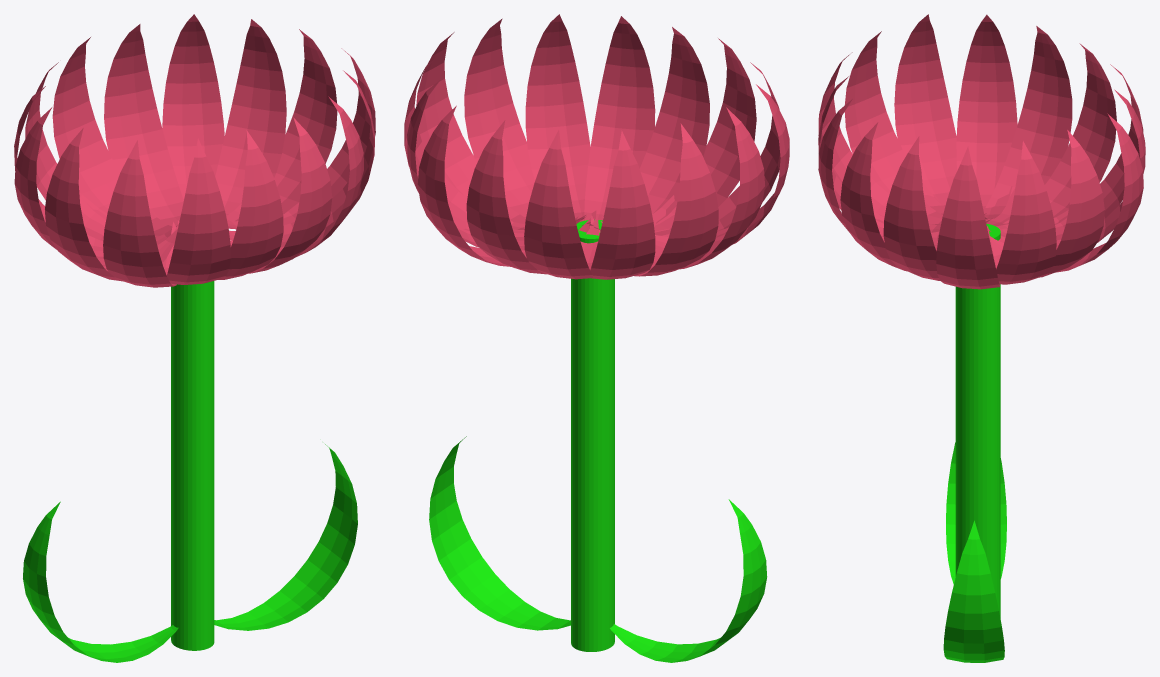
Rendered from hana.fbx.
3 renders of one model, left to right at view 1: azimuth 30°, elevation 25°; view 2: azimuth 150°, elevation 25°; view 3: azimuth 270°, elevation 25°, orthographic. The views are drawn at different scales.
Visible parts, largest first — view 1: 円柱; view 2: 円柱; view 3: 円柱.
Part boxes in pixels (x1,y1,x2,y2): 円柱: (14,14,375,662); 円柱: (404,14,789,662); 円柱: (818,14,1145,662).
Size of the model in its own units: 356 by 573 by 309.
